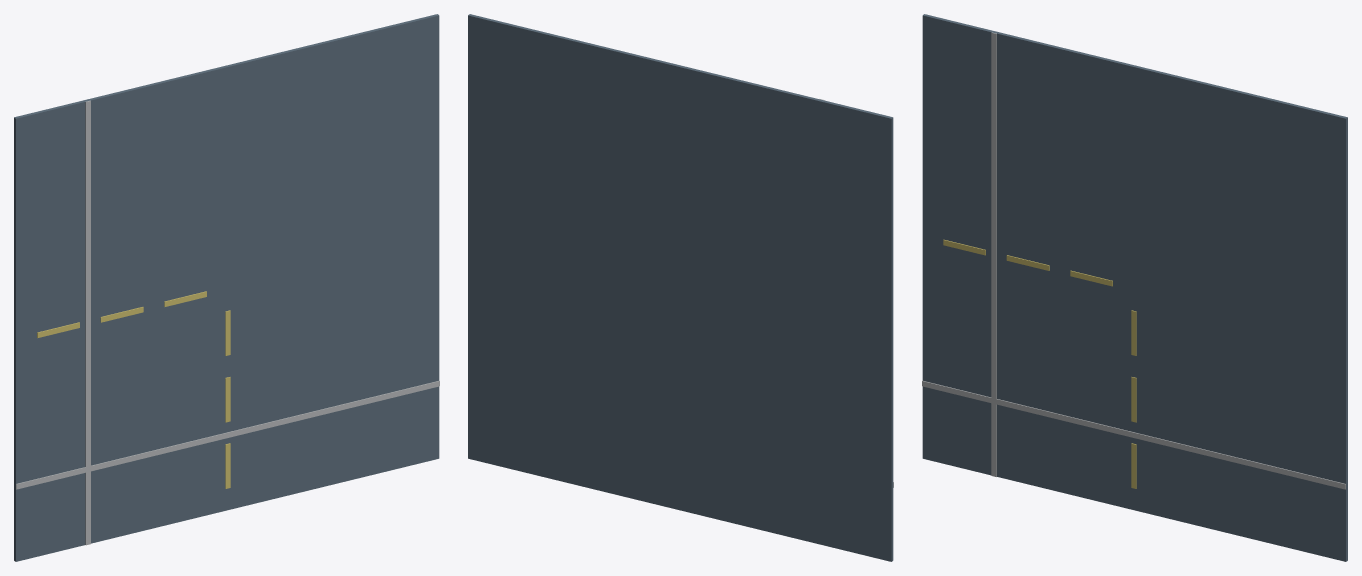
Rendered from road-corner.glb.
3 renders of one model, left to right at view 1: azimuth 30°, elevation 25°; view 2: azimuth 150°, elevation 25°; view 3: azimuth 330°, elevation 25°, orthographic.
Visible parts, largest first — view 1: world; view 2: world; view 3: world.
Boxes of the visible parts, x1,y1,x2,y2 form: world: [14, 14, 439, 561]; world: [468, 14, 893, 561]; world: [922, 14, 1347, 561].
Size of the model in its own units: 10 by 10 by 0.1.
